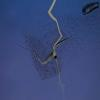faulty: (33, 16, 70, 68)
